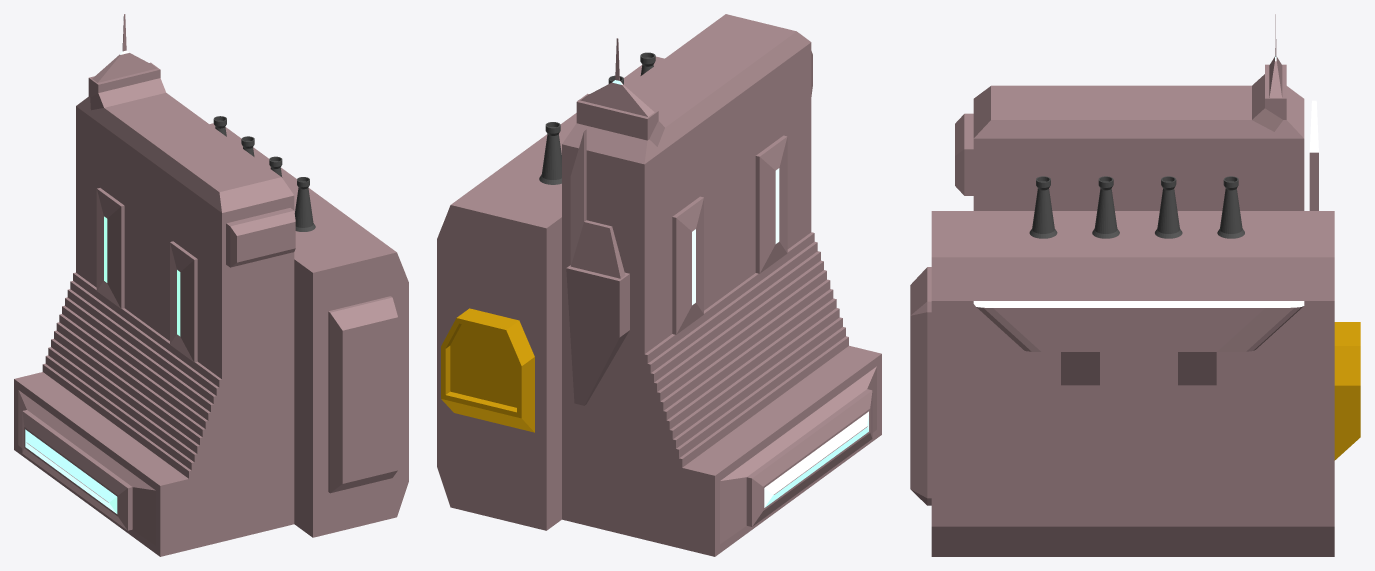
Rendered from Batiment4.fbx.
3 renders of one model, left to right at view 1: azimuth 30°, elevation 25°; view 2: azimuth 150°, elevation 25°; view 3: azimuth 270°, elevation 25°, orthographic. The views are drawn at different scales.
Parts seen in each view (by area): view 1: Cube.018, Cylinder.003; view 2: Cube.018, Cube.019, Cylinder.003; view 3: Cube.018, Cylinder.003, Cube.019.
Boxes of the visible parts, x1,y1,x2,y2 form: Cube.018: [14, 14, 408, 556]; Cylinder.003: [213, 116, 315, 231]; Cube.018: [437, 14, 881, 556]; Cube.019: [441, 308, 534, 432]; Cylinder.003: [539, 52, 655, 184]; Cube.018: [910, 14, 1334, 556]; Cylinder.003: [1029, 176, 1244, 238]; Cube.019: [1334, 322, 1360, 460].
Size of the model in its own units: 270 by 413 by 354.
